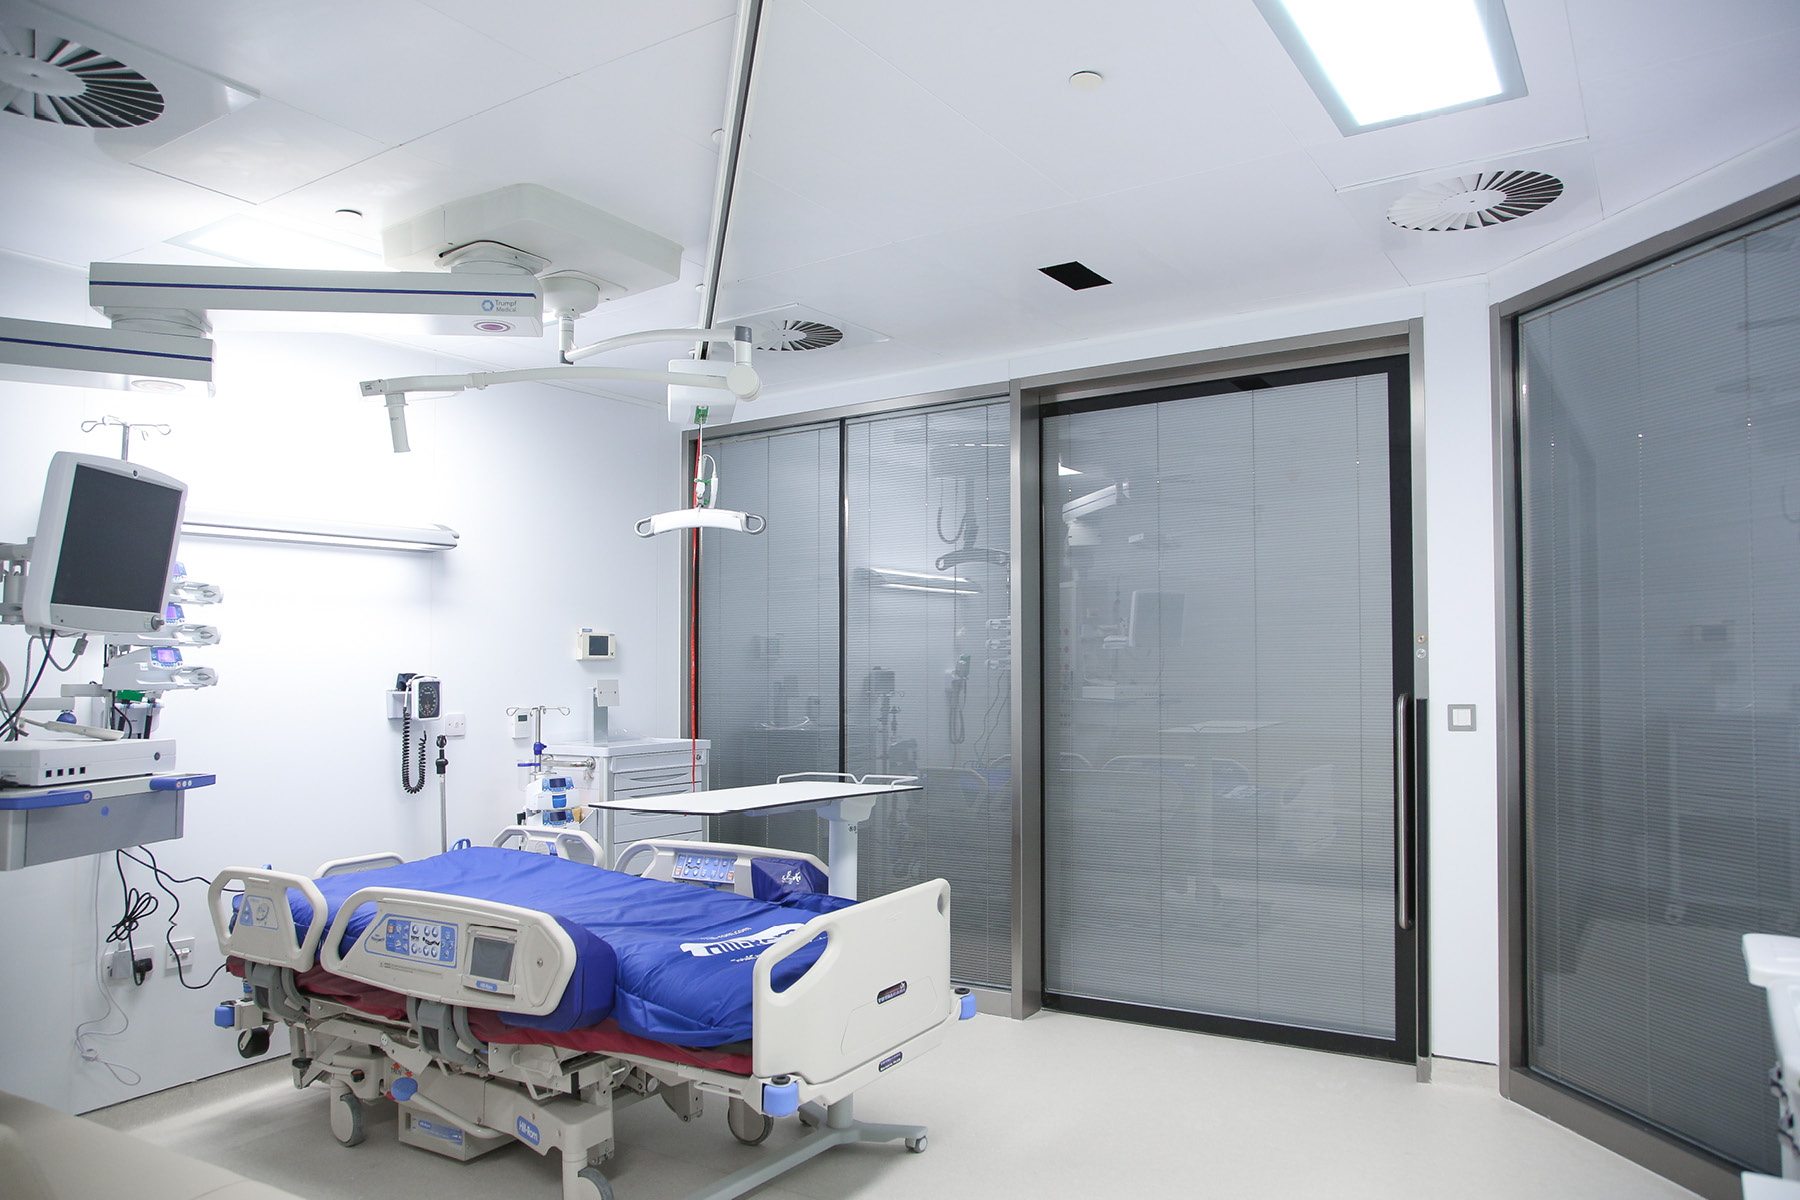bedrail: (320, 887, 577, 1017), (611, 838, 830, 900), (208, 867, 328, 972), (490, 826, 605, 868)
bedside_monitor: (23, 451, 189, 637)
bedside_table: (534, 741, 714, 876)
door_handle: (1392, 692, 1414, 933)
foot_board: (753, 877, 976, 1120)
hospital_bed: (212, 830, 980, 1192)
iv_pole: (506, 703, 572, 771)
light_switch: (1448, 704, 1477, 729)
overbed_table: (588, 773, 925, 905)
